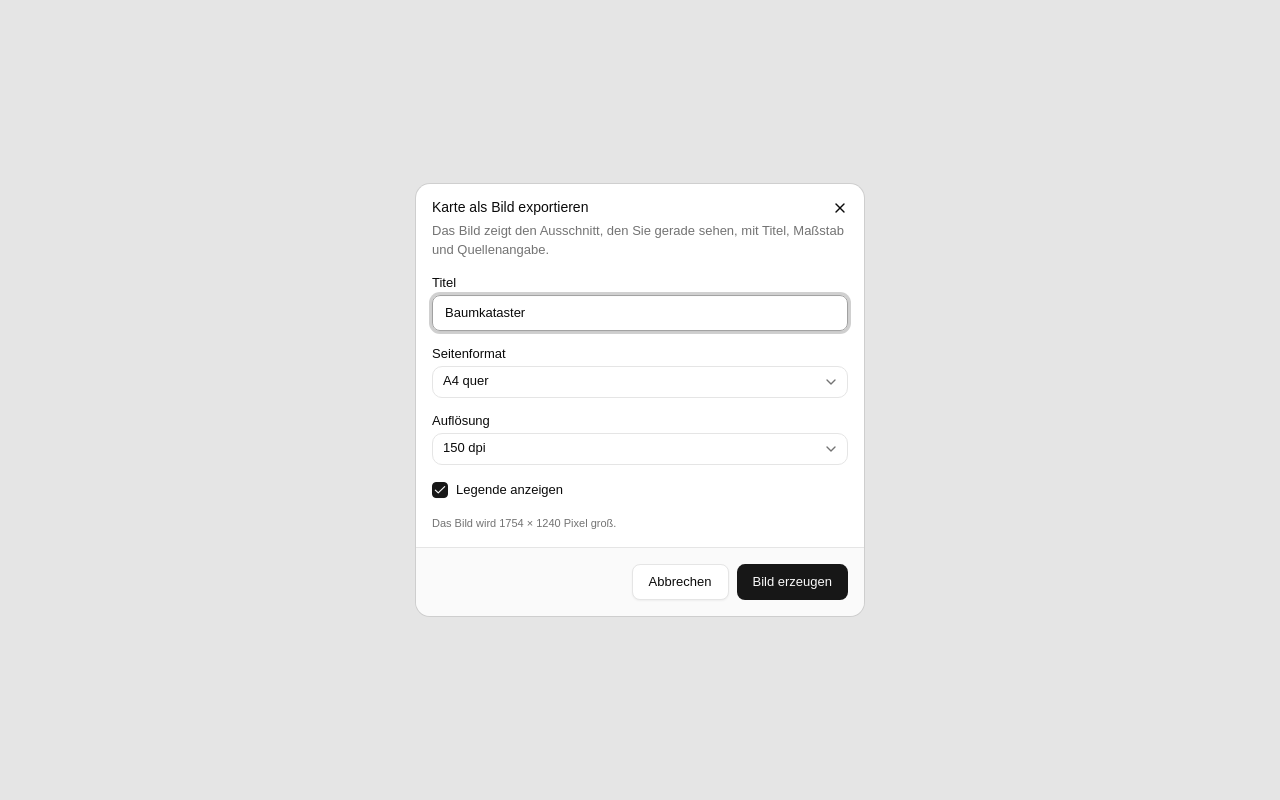
Test case: MapImageDialog › rechnet die Bildgröße neu, wenn das Format wechselt
Step 1. Click the dropdown named "Seitenformat" → (466,381), box 432,366 -> 848,398
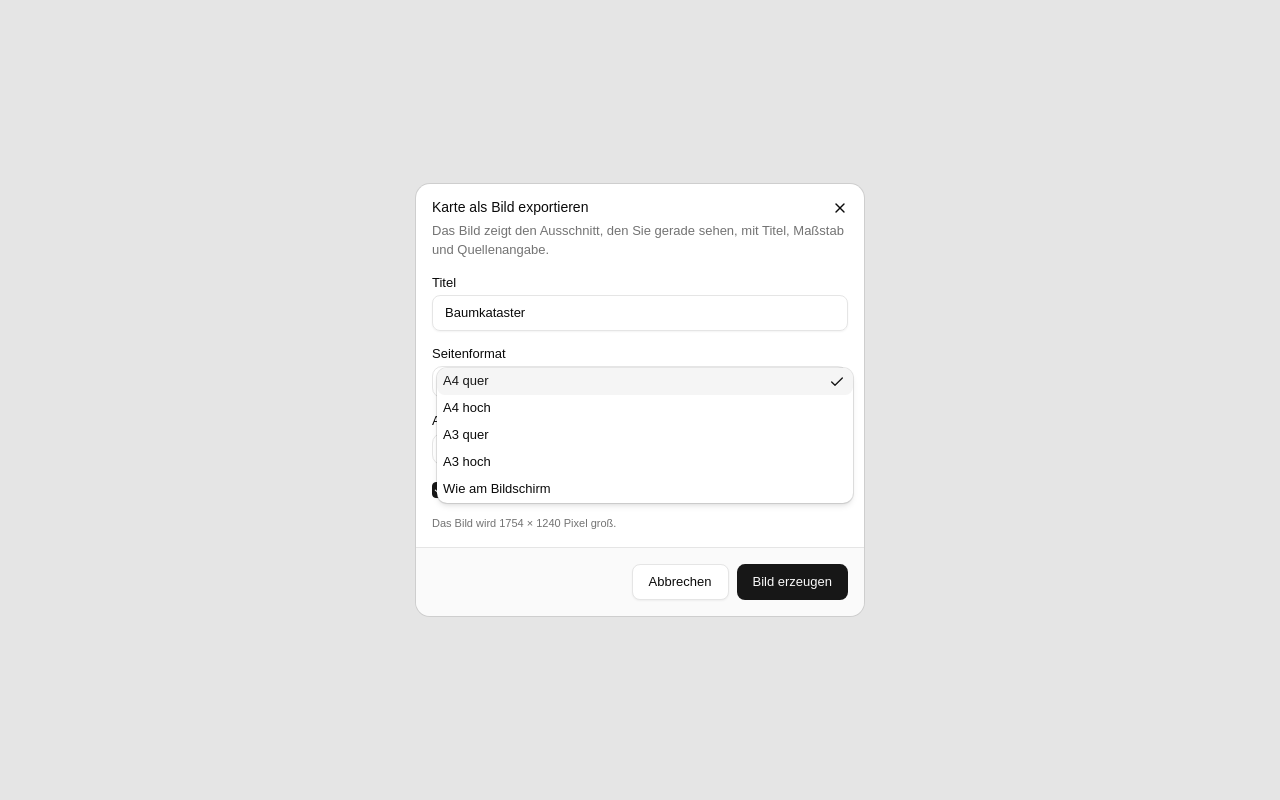
Step 2. Click the option "A4 hoch" → (467,408), box 443,400 -> 491,415
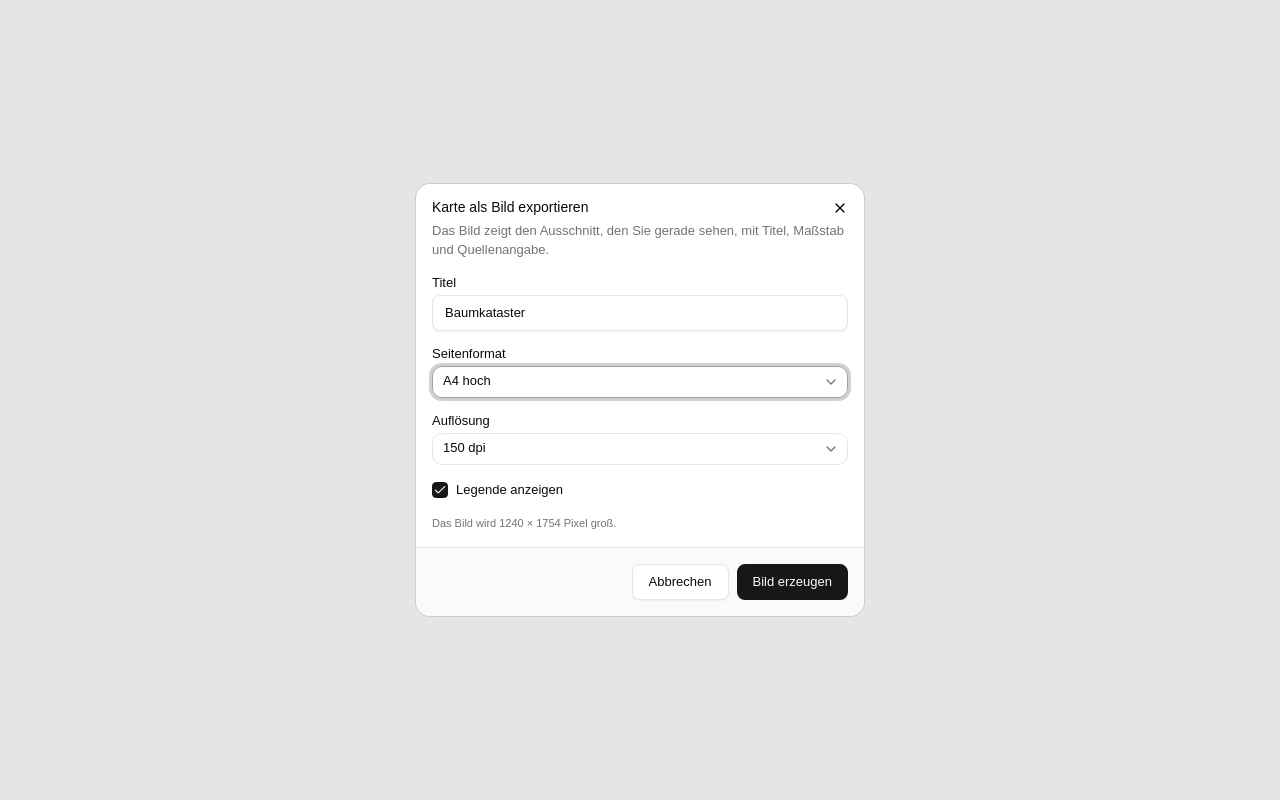
Expected: the text "Das Bild wird 1240 × 1754 Pixel groß." is shown, 432,517 -> 616,529
